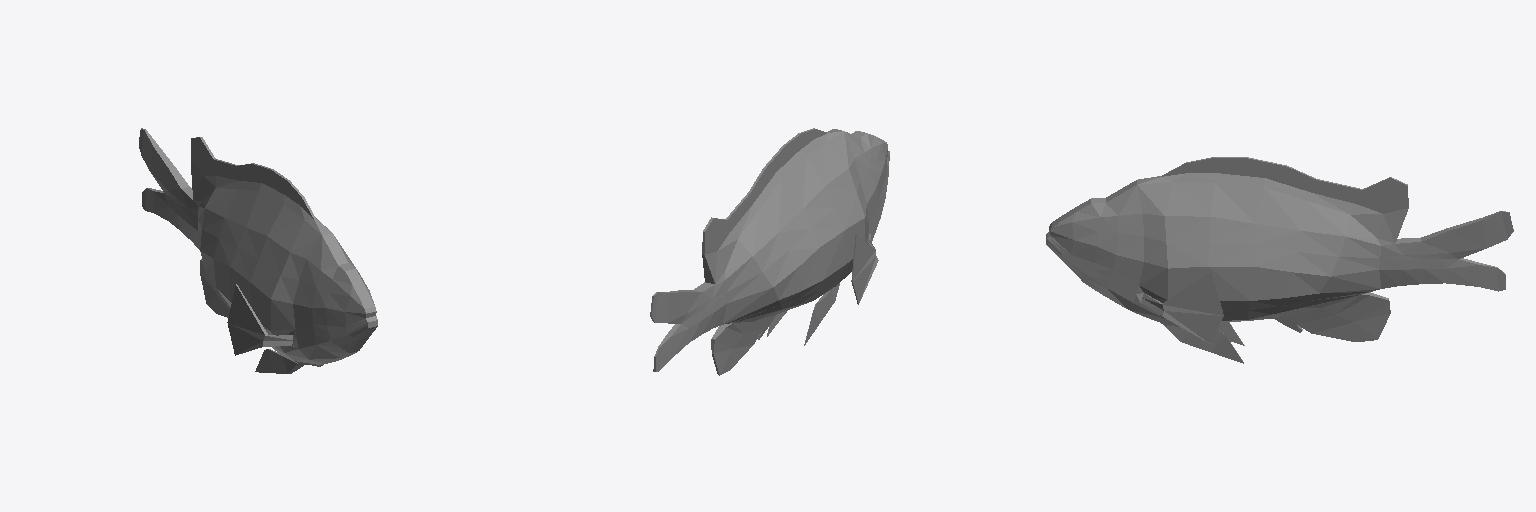
Rendered from TropicalFish07.obj.
The picture shows the model from 3 angles: view 1: azimuth 30°, elevation 25°; view 2: azimuth 150°, elevation 25°; view 3: azimuth 270°, elevation 25°; orthographic projection.
Parts seen in each view (by area): view 1: TropicalFish07; view 2: TropicalFish07; view 3: TropicalFish07.
Part boxes in pixels (x1,y1,x2,y2): TropicalFish07: (139, 128, 377, 373); TropicalFish07: (650, 128, 889, 375); TropicalFish07: (1046, 157, 1513, 363).
Bounding box in the file's own units: 44.33 × 74.06 × 159.